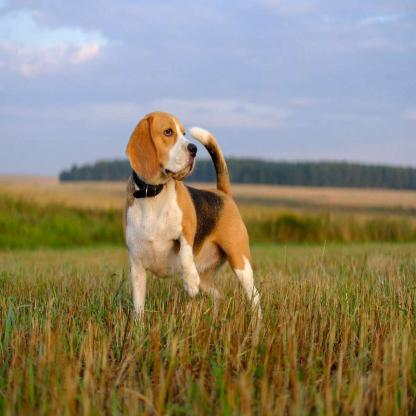Bigl: (120, 106, 263, 316)
